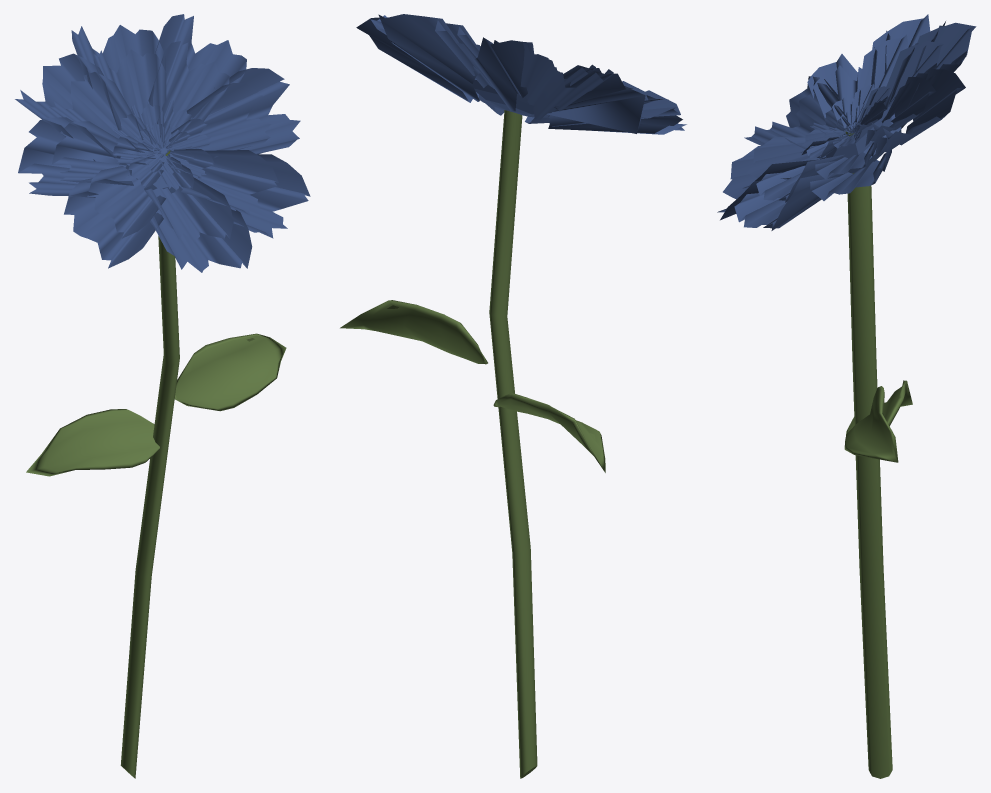
The model's file is carnationBlue.fbx.
3 views of the same model, side by side, from view 1: azimuth 30°, elevation 25°; view 2: azimuth 150°, elevation 25°; view 3: azimuth 270°, elevation 25° (orthographic). The views are drawn at different scales.
Visible parts, largest first — view 1: polySurface313; view 2: polySurface313; view 3: polySurface313.
Part boxes in pixels (bbox=[...]): polySurface313: bbox=[15, 14, 310, 778]; polySurface313: bbox=[340, 14, 686, 778]; polySurface313: bbox=[717, 14, 976, 778].
Bounding box in the file's own units: 1.22 × 2.93 × 0.9236.
